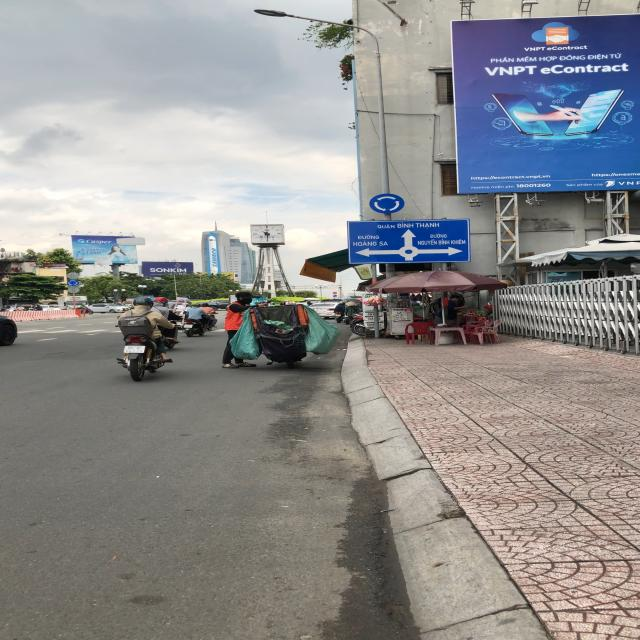Bien bao noi giao nhau chay theo vong xuyen: (367, 192, 403, 215), (66, 278, 80, 288)
